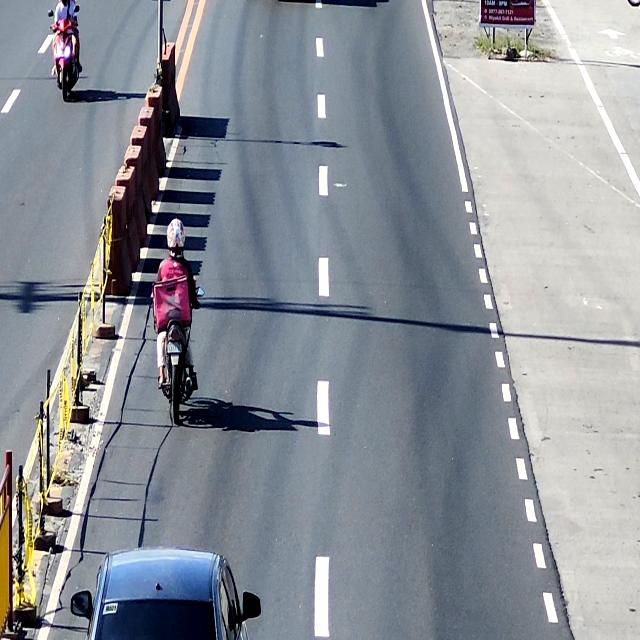Car: (68, 548, 263, 640)
Motorcycle: (147, 254, 205, 425), (50, 18, 80, 103)
